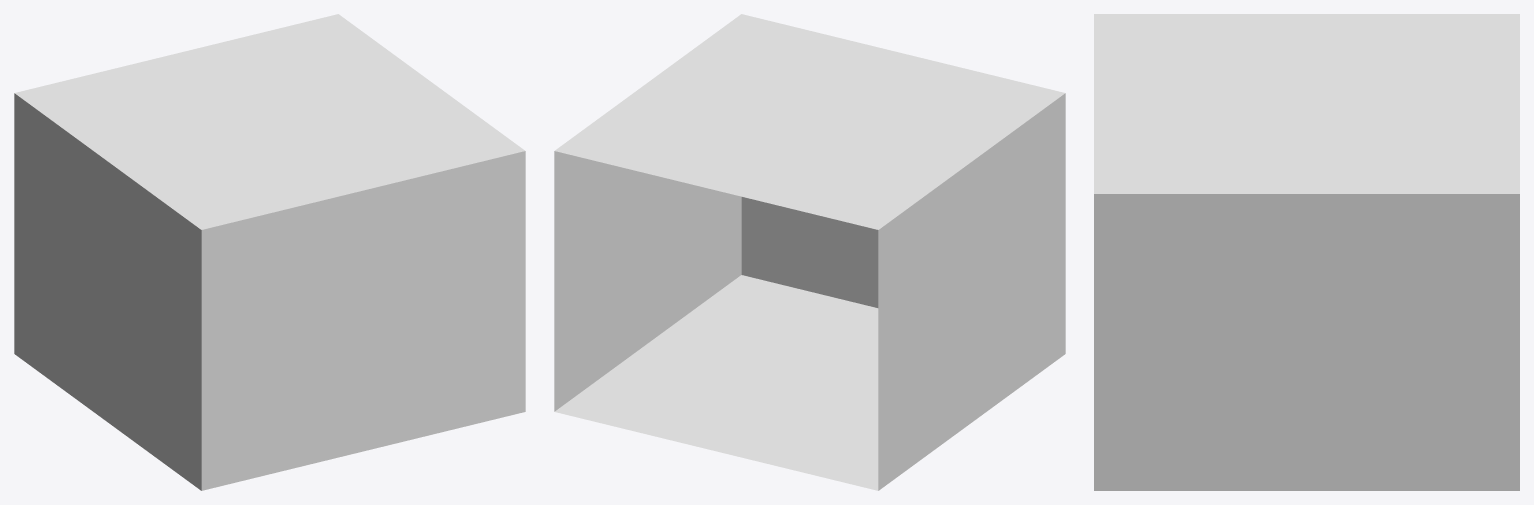
The model's file is M_WallTrim50White100-1.FBX.
3 views of the same model, side by side, from view 1: azimuth 30°, elevation 25°; view 2: azimuth 150°, elevation 25°; view 3: azimuth 270°, elevation 25° (orthographic). The views are drawn at different scales.
Parts seen in each view (by area): view 1: M_WallTrim50White100-1; view 2: M_WallTrim50White100-1; view 3: M_WallTrim50White100-1.
Boxes of the visible parts, box(x1,y1,x2,y2) form: M_WallTrim50White100-1: box(14, 14, 525, 490); M_WallTrim50White100-1: box(554, 14, 1065, 490); M_WallTrim50White100-1: box(1094, 14, 1519, 490).
Bounding box in the file's own units: 0.65 × 0.5 × 0.65.
